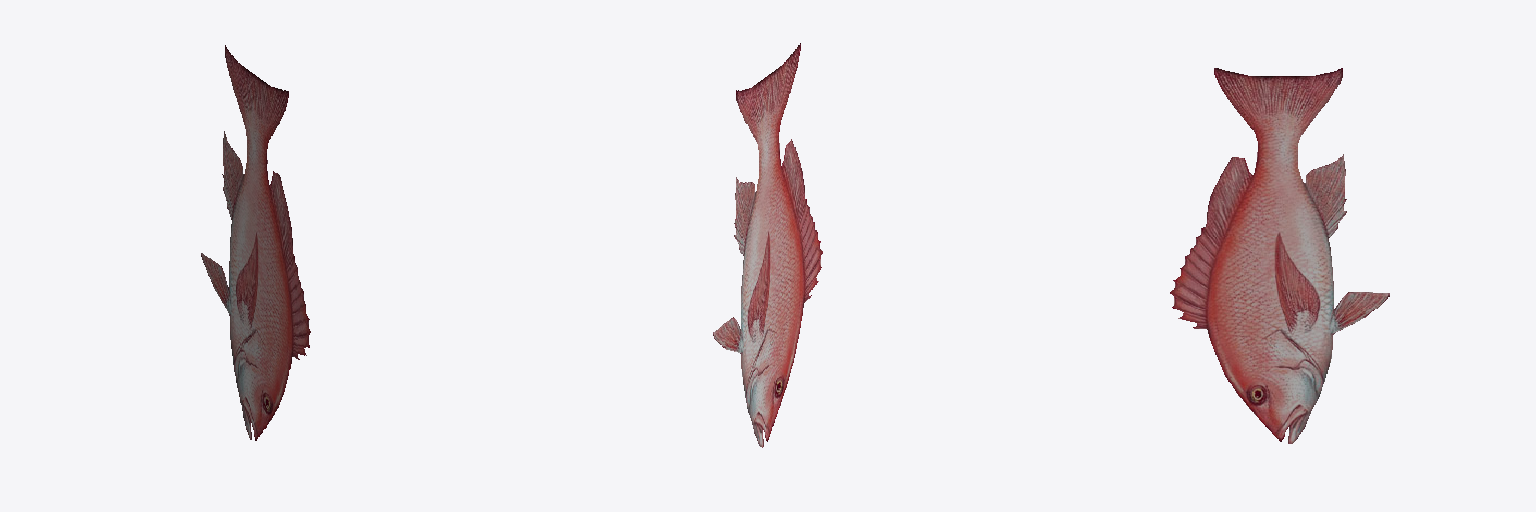
3 renders of one model, left to right at view 1: azimuth 30°, elevation 25°; view 2: azimuth 150°, elevation 25°; view 3: azimuth 270°, elevation 25°, orthographic.
Bounding box in the file's own units: 0.0024 × 2 × 1.06.
Materials: 1 (1 with a texture image).